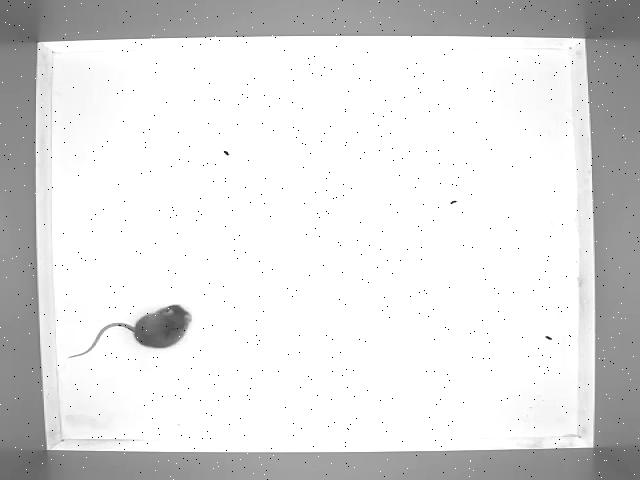Tikus: (70, 304, 190, 356)
